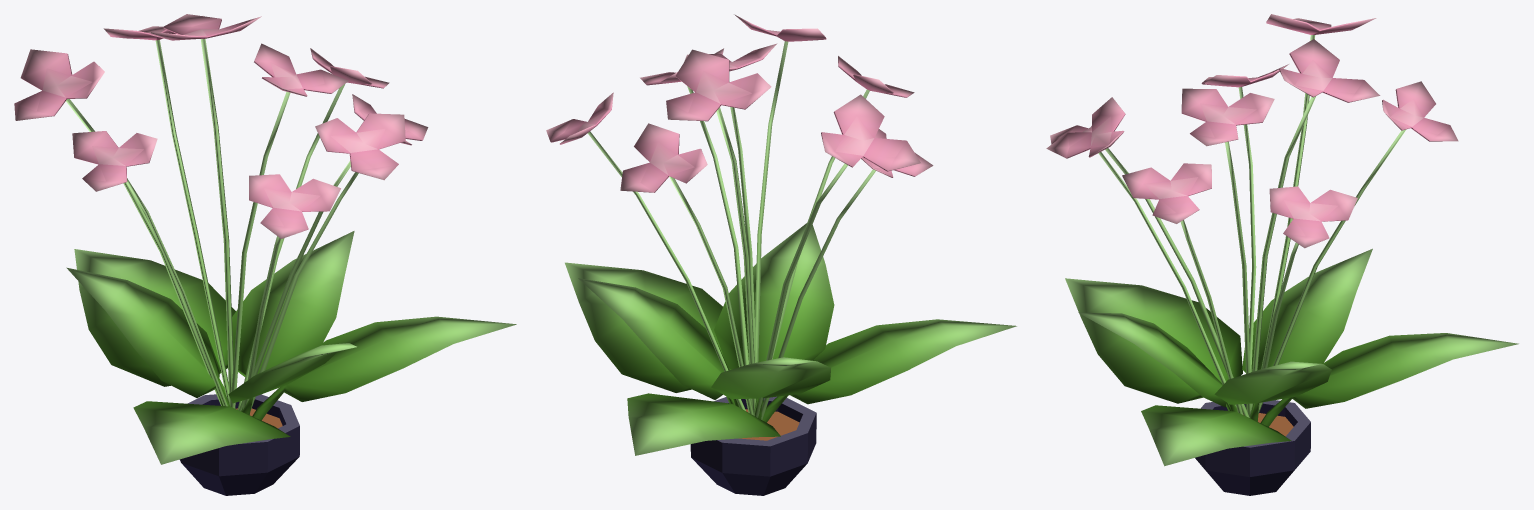
File: pfp15.fbx
The picture shows the model from 3 angles, left to right: view 1: azimuth 30°, elevation 25°; view 2: azimuth 150°, elevation 25°; view 3: azimuth 270°, elevation 25°; orthographic projection. The views are drawn at different scales.
Visible parts, largest first — view 1: pfp15; view 2: pfp15; view 3: pfp15.
Part boxes in pixels (<box>): pfp15: <box>14,14,516,495</box>; pfp15: <box>546,14,1016,495</box>; pfp15: <box>1046,14,1518,495</box>.
Size of the model in its own units: 107 by 104 by 106.
